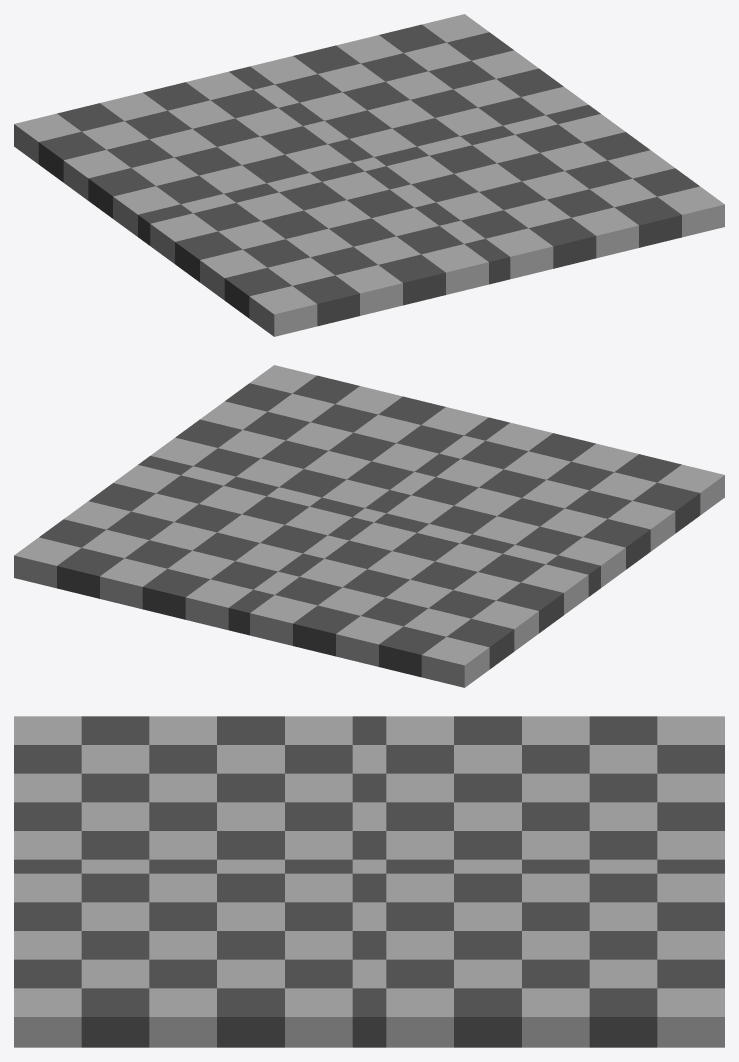
The model's file is ground_alt.glb.
3 views of the same model, one above another, from view 1: azimuth 30°, elevation 25°; view 2: azimuth 150°, elevation 25°; view 3: azimuth 270°, elevation 25° (orthographic). The views are drawn at different scales.
Parts seen in each view (by area): view 1: Untitled; view 2: Untitled; view 3: Untitled.
Part boxes in pixels (x1,y1,x2,y2): Untitled: (14, 14, 724, 336); Untitled: (14, 365, 724, 687); Untitled: (14, 716, 724, 1047).
Size of the model in its own units: 2.1 by 0.1 by 2.1.
Materials: 1 (1 with a texture image).
